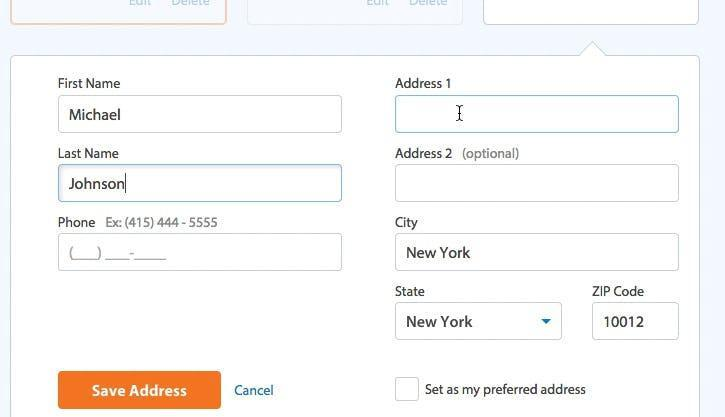button: (56, 370, 224, 413)
checkbox: (396, 379, 419, 402)
dropdown: (394, 302, 564, 343)
input: (57, 163, 344, 204), (58, 95, 345, 135), (57, 233, 344, 273), (395, 95, 681, 135), (395, 164, 681, 204), (395, 233, 681, 272), (592, 302, 681, 342)
label: (53, 213, 221, 231), (390, 146, 522, 164), (426, 384, 588, 397), (55, 76, 126, 93), (53, 146, 126, 161), (586, 283, 650, 300), (390, 76, 456, 92), (389, 280, 437, 300), (390, 215, 423, 232), (235, 384, 276, 397)
